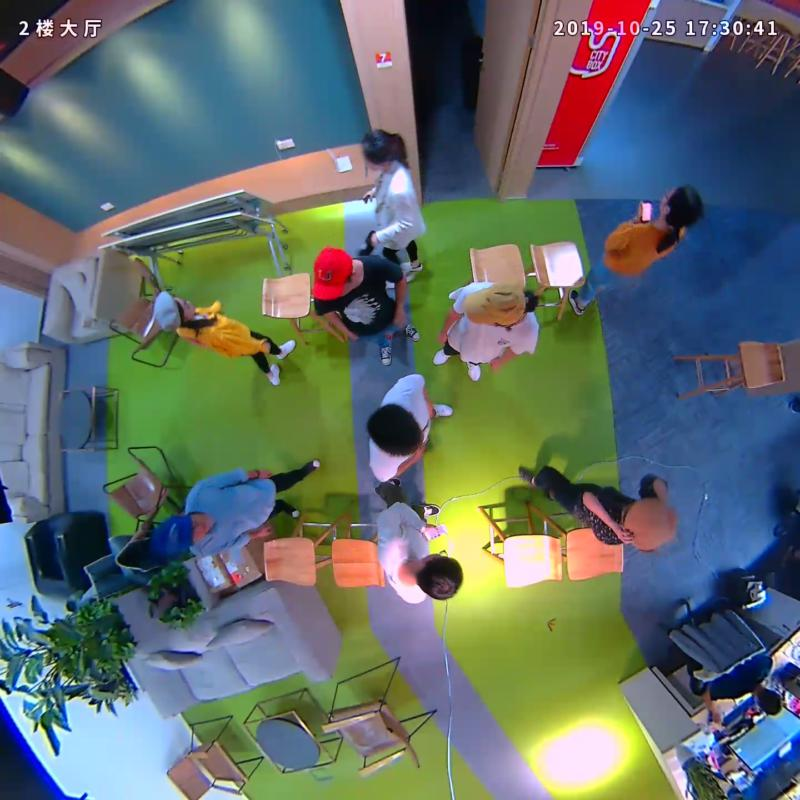head: (617, 494, 676, 553), (367, 403, 423, 458), (311, 245, 359, 303), (461, 283, 525, 326), (415, 553, 465, 601), (158, 514, 209, 555), (658, 184, 703, 228), (153, 288, 197, 332), (361, 129, 398, 172)
